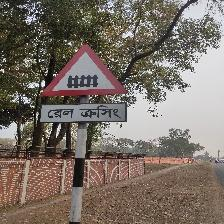Rail-crossing: (39, 42, 129, 124)
